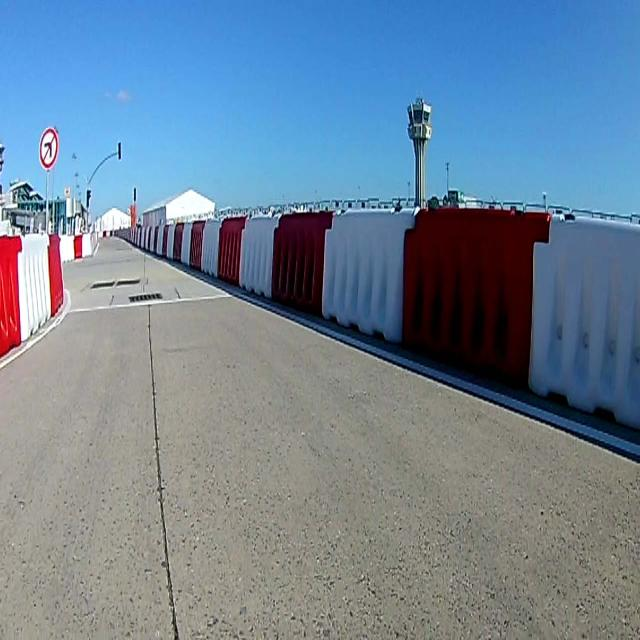soladonulmez: (38, 125, 60, 172)
